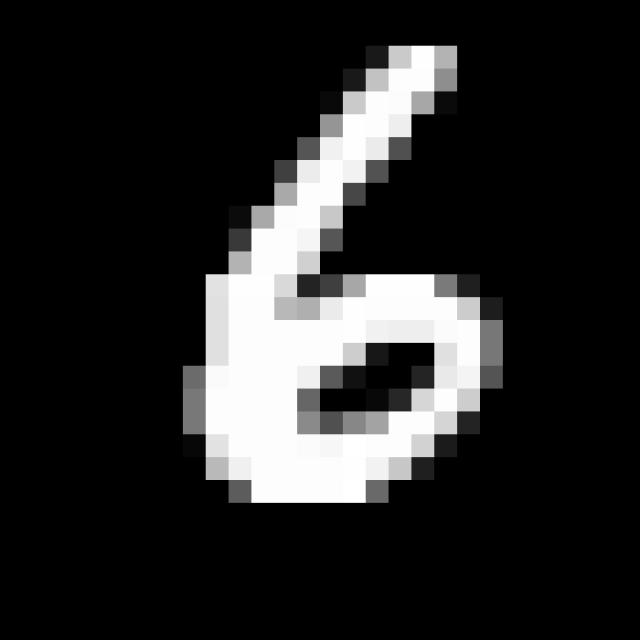six -6-: (185, 29, 512, 514)
